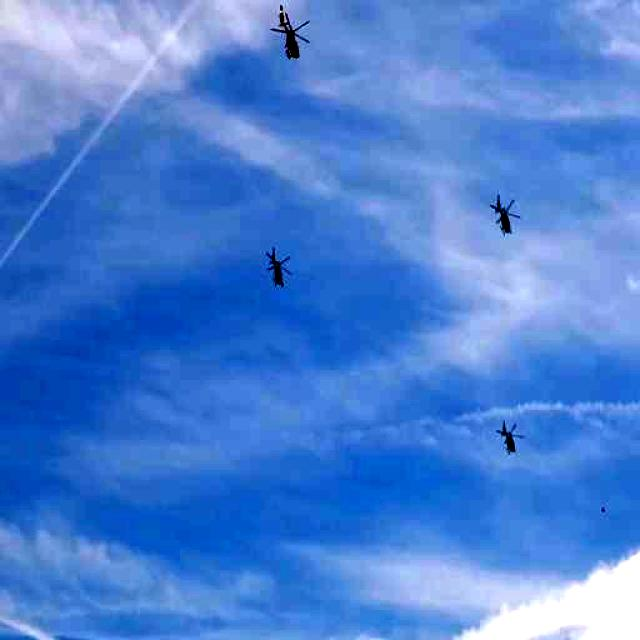drone: (270, 0, 306, 72), (491, 185, 518, 246), (271, 241, 295, 305), (498, 404, 520, 461)
